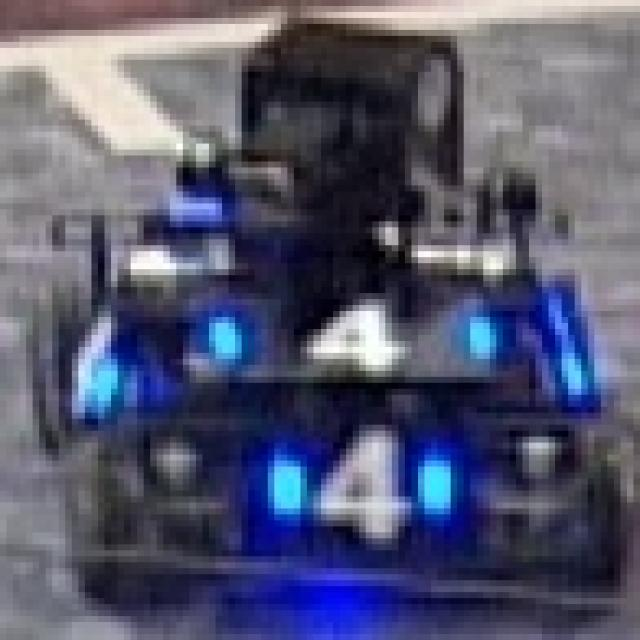B4: (261, 419, 451, 544)
